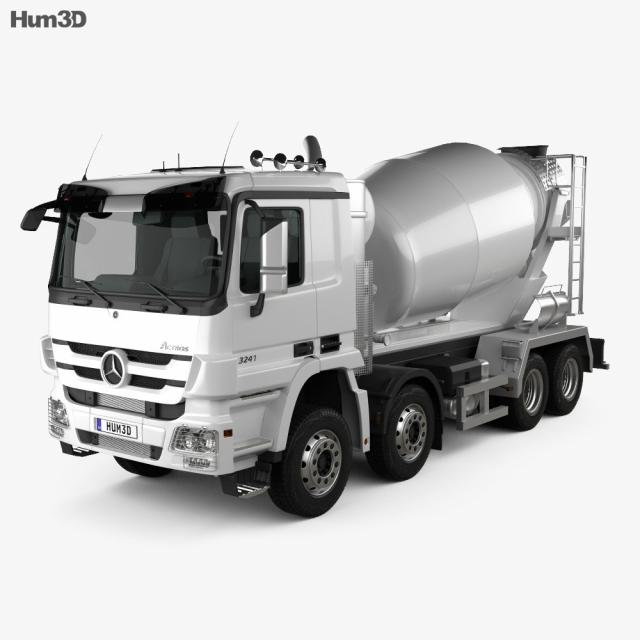Mixer Truck: (22, 136, 609, 518)
